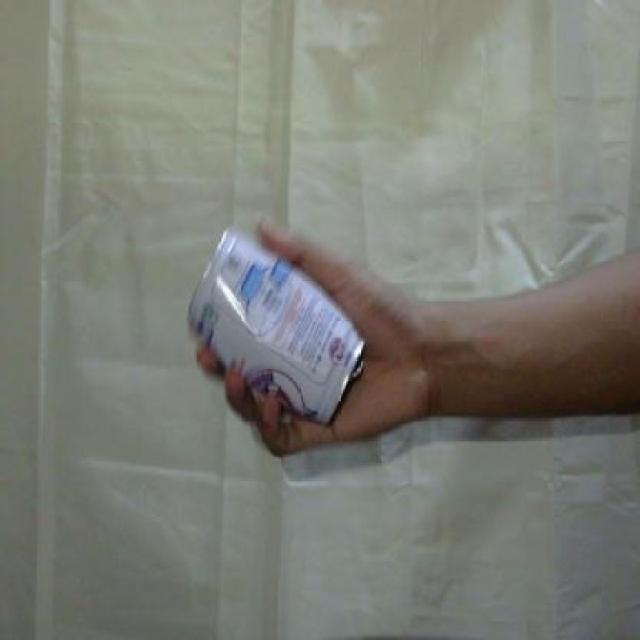Metal: (172, 218, 381, 436)
